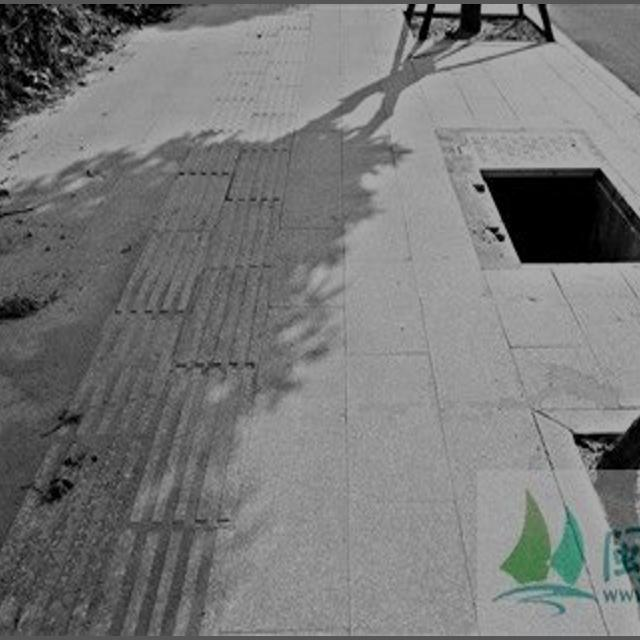lose: (447, 127, 640, 286)
